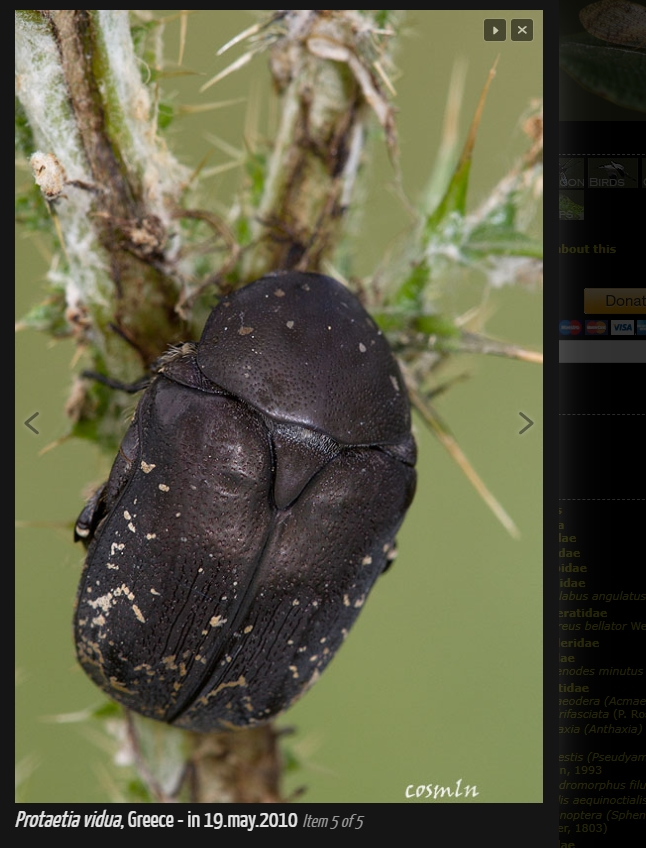Protaetia_vidua: (61, 262, 427, 739)
